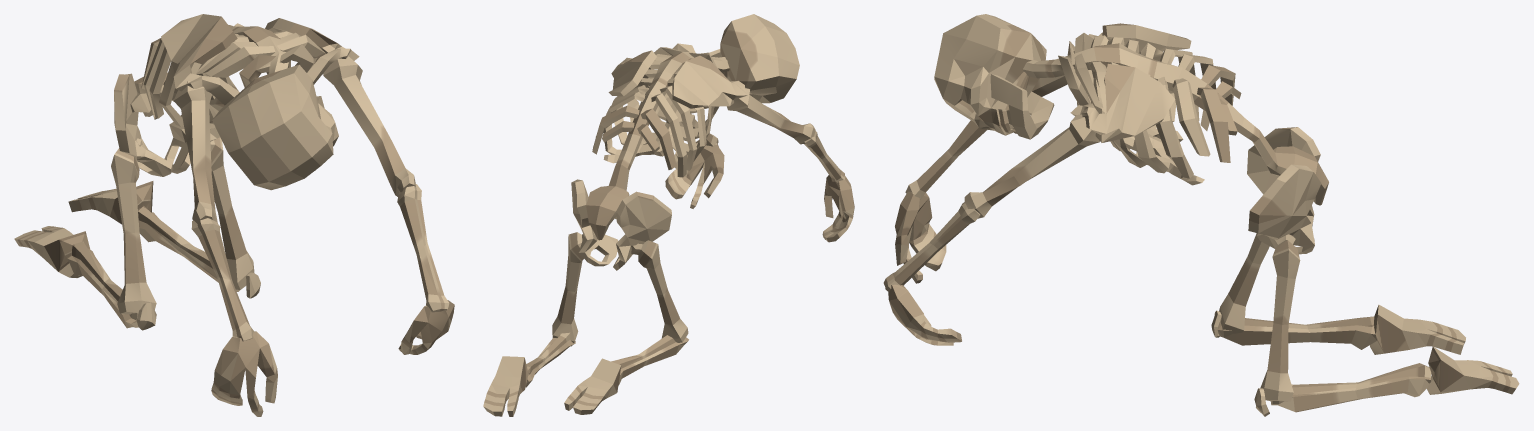
The model's file is SM_Prop_Skeleton_02.fbx.
3 views of the same model, side by side, from view 1: azimuth 30°, elevation 25°; view 2: azimuth 150°, elevation 25°; view 3: azimuth 270°, elevation 25° (orthographic). The views are drawn at different scales.
Visible parts, largest first — view 1: SM_Prop_Skeleton_02; view 2: SM_Prop_Skeleton_02; view 3: SM_Prop_Skeleton_02.
Boxes of the visible parts, x1=… form: SM_Prop_Skeleton_02: x1=14, y1=14, x2=454, y2=416; SM_Prop_Skeleton_02: x1=483, y1=14, x2=854, y2=416; SM_Prop_Skeleton_02: x1=883, y1=14, x2=1519, y2=416.
Size of the model in its own units: 61.06 by 87.91 by 144.
